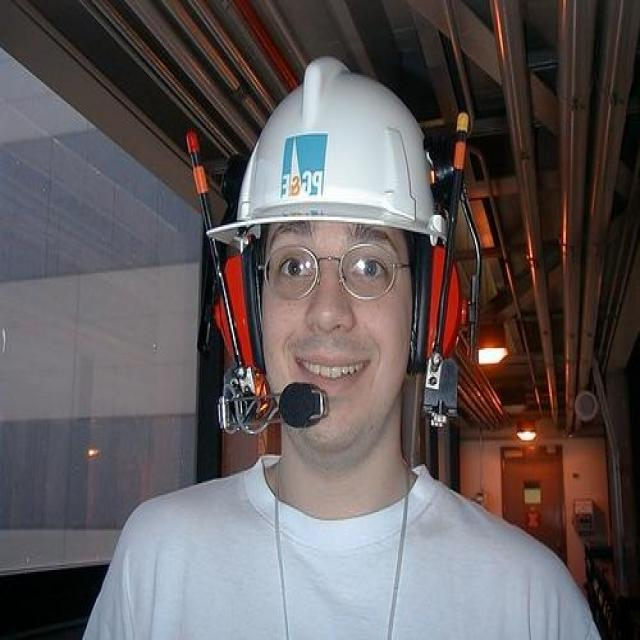Safety-Helmet: (208, 56, 450, 253)
